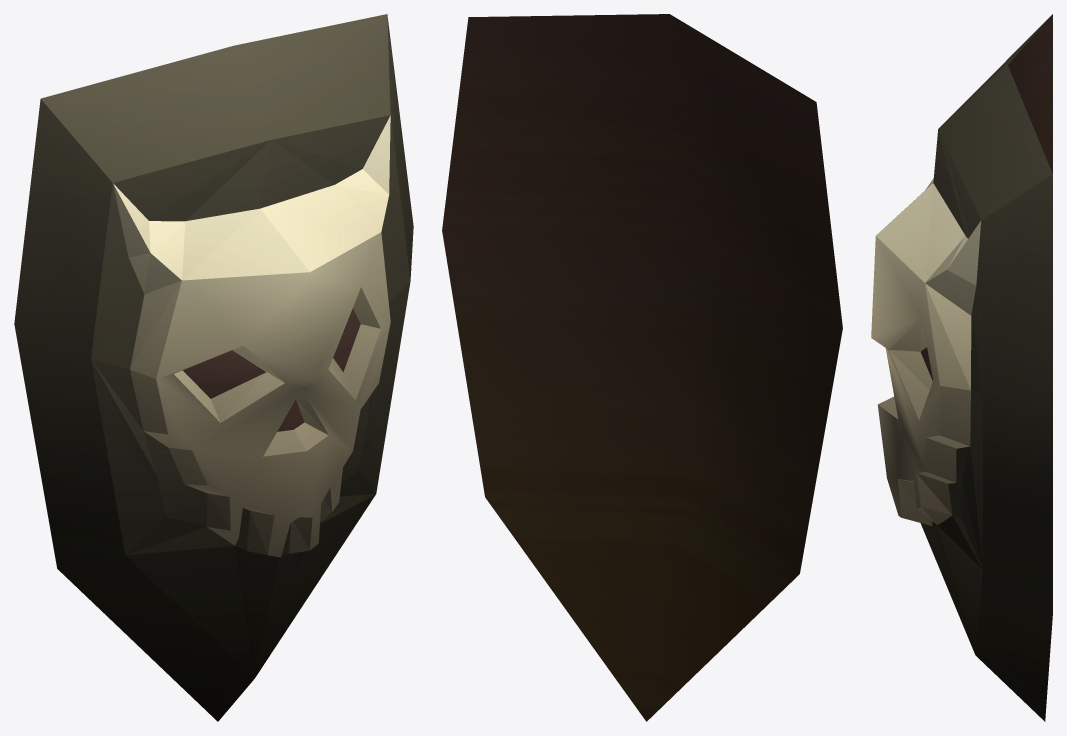
Rendered from deathKnightShield_mdl.FBX.
3 renders of one model, left to right at view 1: azimuth 30°, elevation 25°; view 2: azimuth 150°, elevation 25°; view 3: azimuth 270°, elevation 25°, orthographic. The views are drawn at different scales.
Visible parts, largest first — view 1: deathKnightShield_mdl; view 2: deathKnightShield_mdl; view 3: deathKnightShield_mdl.
Part boxes in pixels (x1,y1,x2,y2): deathKnightShield_mdl: (14, 14, 413, 721); deathKnightShield_mdl: (442, 14, 842, 721); deathKnightShield_mdl: (871, 14, 1052, 721).
Bounding box in the file's own units: 110 × 182 × 45.75.
